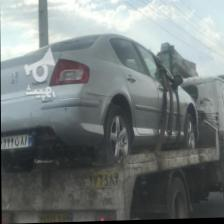plate: (1, 131, 37, 150)
